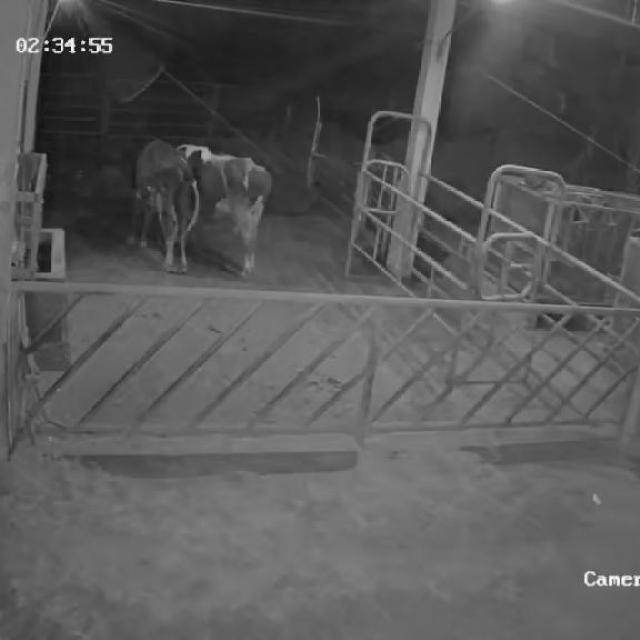lying down: (265, 162, 327, 224)
standing: (183, 138, 273, 284), (124, 138, 202, 272)
